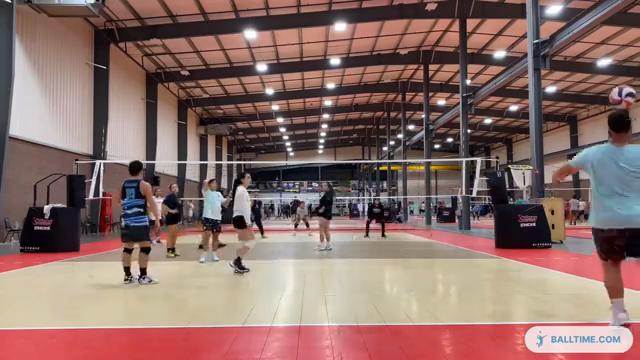battuta: (552, 81, 639, 325)
